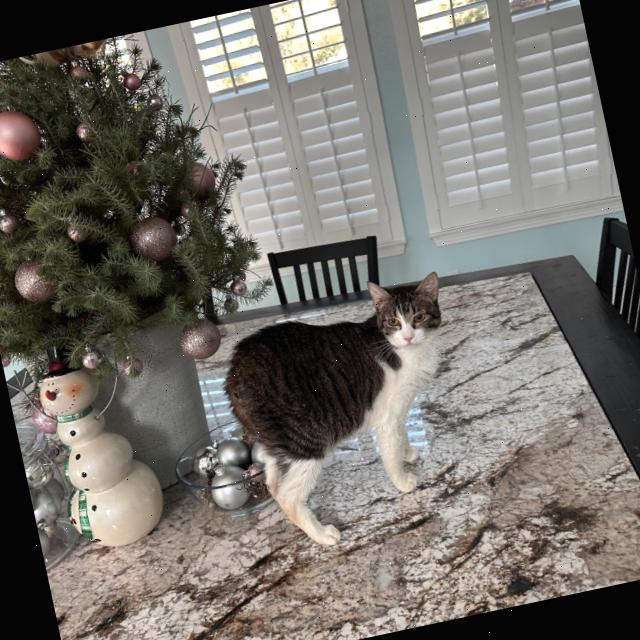manx_cat: (342, 254, 471, 388)
